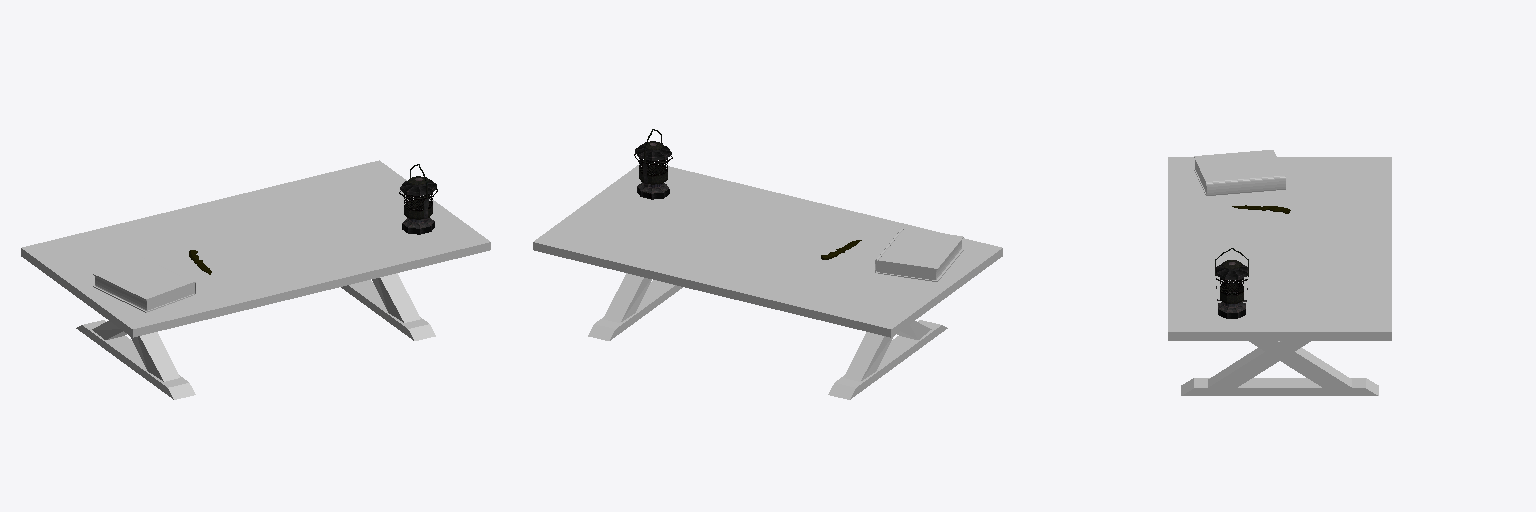
3 views of the same model, side by side, from view 1: azimuth 30°, elevation 25°; view 2: azimuth 150°, elevation 25°; view 3: azimuth 270°, elevation 25° (orthographic).
Bounding box in the file's own units: 5.62 × 2.28 × 3.03.
Materials: 4 (1 with a texture image).